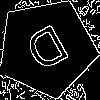D: (22, 23, 77, 81)
